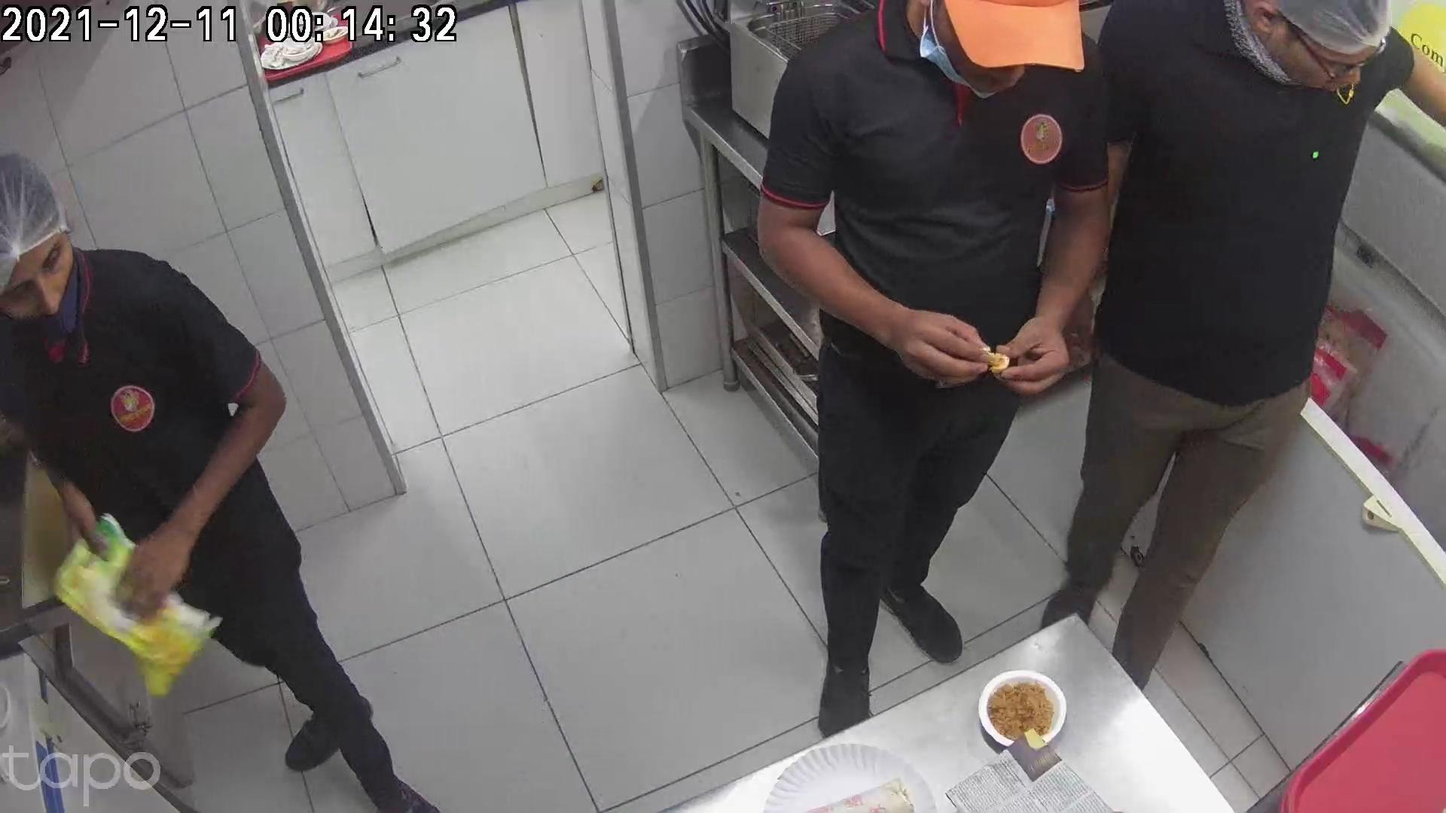no_gloves: (494, 339, 624, 451)
